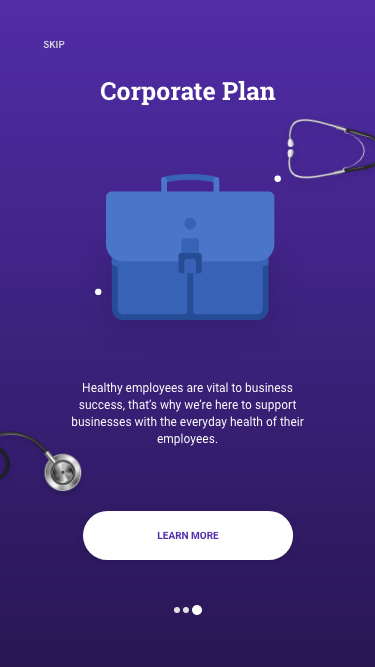Image: (95, 175, 282, 321)
PageIndicator: (174, 605, 203, 616)
Text: (72, 382, 305, 447), (101, 81, 276, 107), (44, 41, 66, 50)
TextButton: (83, 511, 294, 561)
